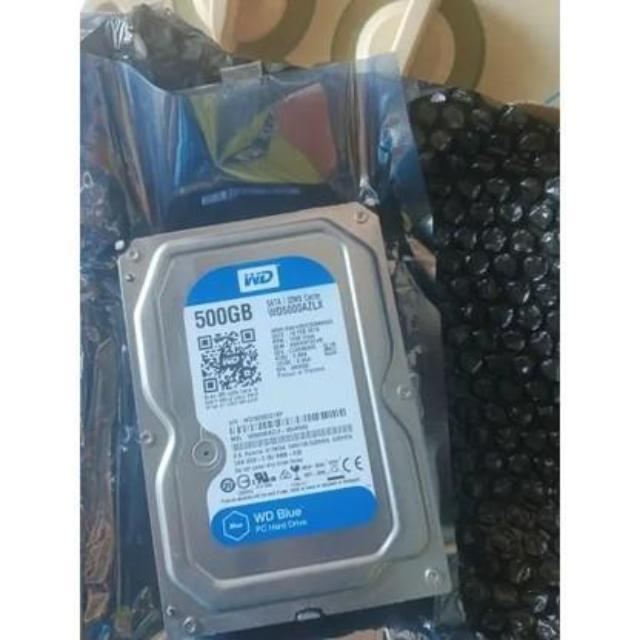DISK: (116, 218, 458, 620)
